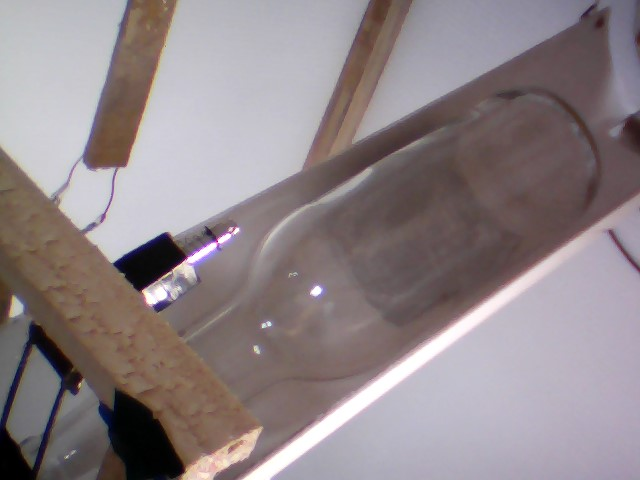vidrio: (171, 80, 608, 410)
